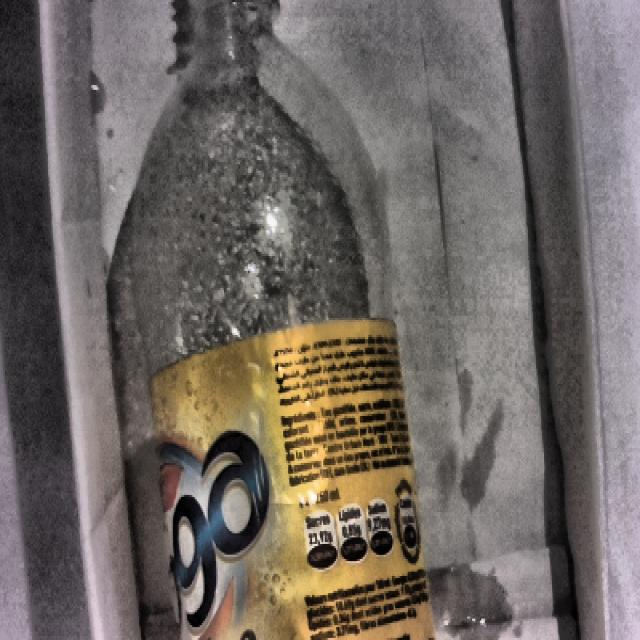plastic: (83, 0, 494, 640)
